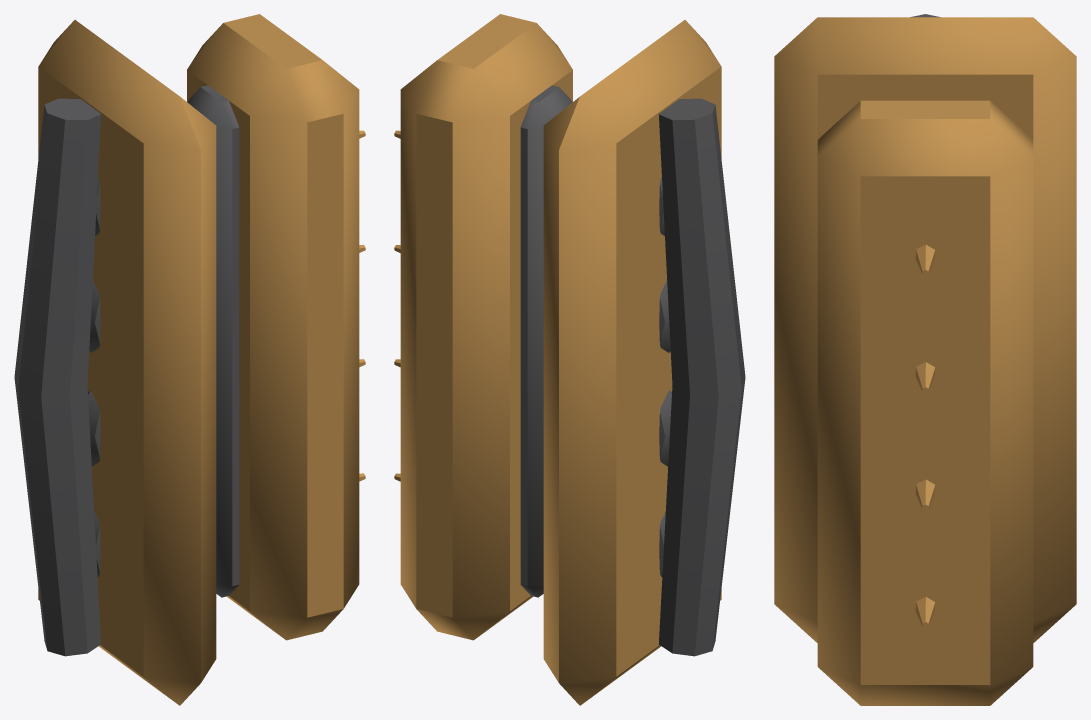
Rendered from fa_ironvow_knuckles.glb.
3 views of the same model, side by side, from view 1: azimuth 30°, elevation 25°; view 2: azimuth 150°, elevation 25°; view 3: azimuth 270°, elevation 25° (orthographic). The views are drawn at different scales.
Visible parts, largest first — view 1: fa_ironvow_knuckles; view 2: fa_ironvow_knuckles; view 3: fa_ironvow_knuckles.
Boxes of the visible parts, box(x1,y1,x2,y2) form: fa_ironvow_knuckles: box(14, 14, 365, 705); fa_ironvow_knuckles: box(394, 14, 745, 705); fa_ironvow_knuckles: box(774, 14, 1076, 705).
Bounding box in the file's own units: 0.095 × 0.16 × 0.07.
